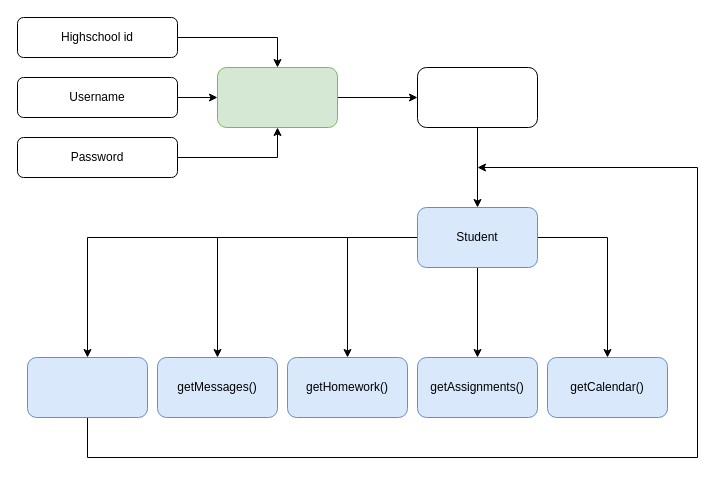
Some shapes in this 723 by 483 pixel diagram are drawn without their labels. The shapes that lost their labels are listed below. From the top down, each one's box as (x1, y1, x2, y2) in pixels, then its label:
(216, 66, 338, 128): Account
(416, 66, 538, 128): login()
(26, 356, 148, 418): getStudent()
